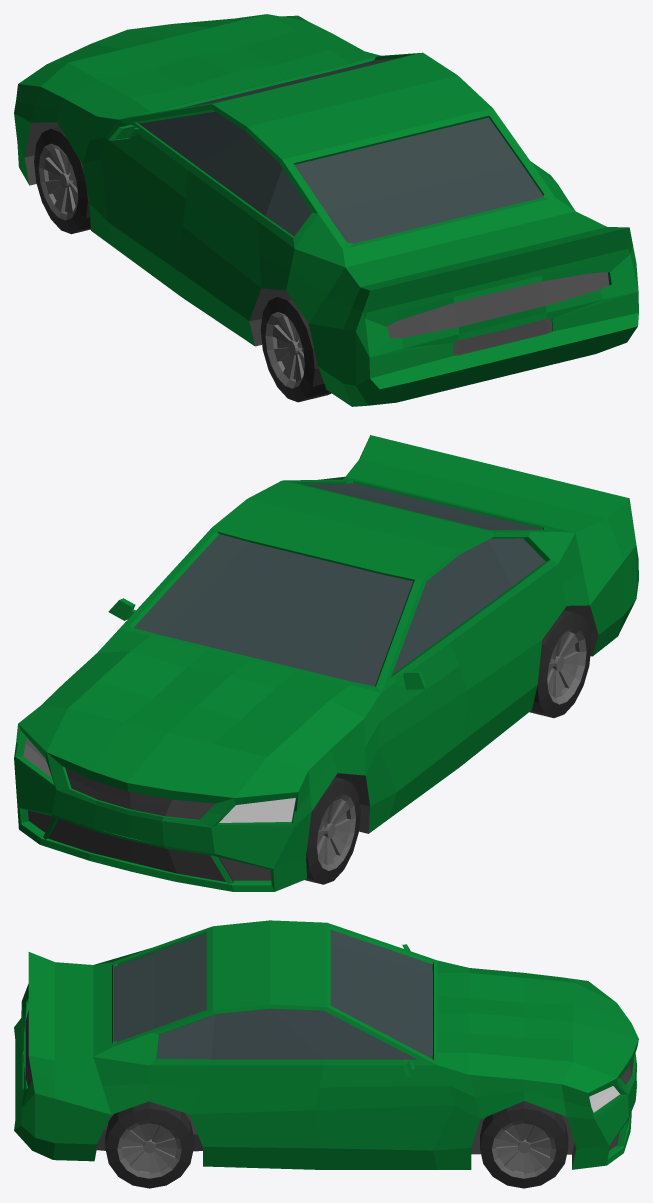
The model's file is LowPolyCar.fbx.
3 renders of one model, top to bottom at view 1: azimuth 30°, elevation 25°; view 2: azimuth 150°, elevation 25°; view 3: azimuth 270°, elevation 25°, orthographic. The views are drawn at different scales.
Visible parts, largest first — view 1: Cube, WheelBackLeft, WheelFrontLeft; view 2: Cube, WheelBackLeft, WheelFrontLeft; view 3: Cube, WheelBackRight, WheelFrontRight.
Boxes of the visible parts, x1,y1,x2,y2 form: Cube: (14,14,638,406); WheelBackLeft: (260,294,331,402); WheelFrontLeft: (34,126,90,234); Cube: (14,435,638,891); WheelBackLeft: (529,610,591,718); WheelFrontLeft: (305,777,360,884); Cube: (14,920,638,1169); WheelBackRight: (105,1101,193,1188); WheelFrontRight: (480,1101,568,1188).
Bounding box in the file's own units: 245 × 155 × 511.
